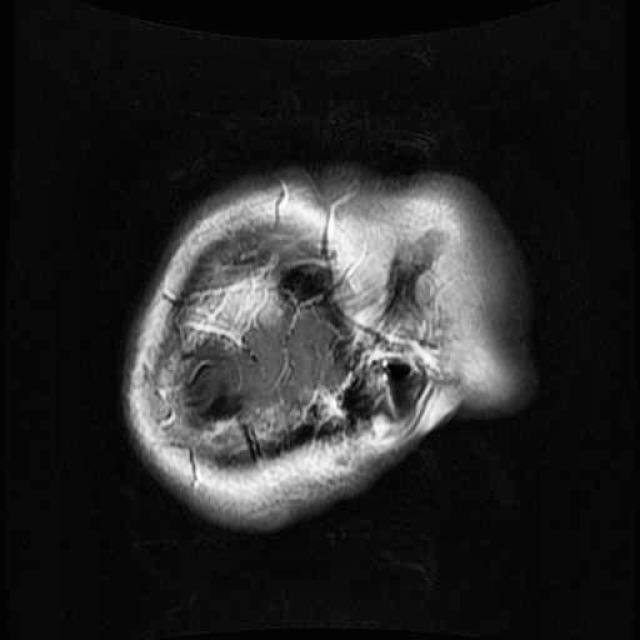Tumor: (162, 260, 282, 360)
